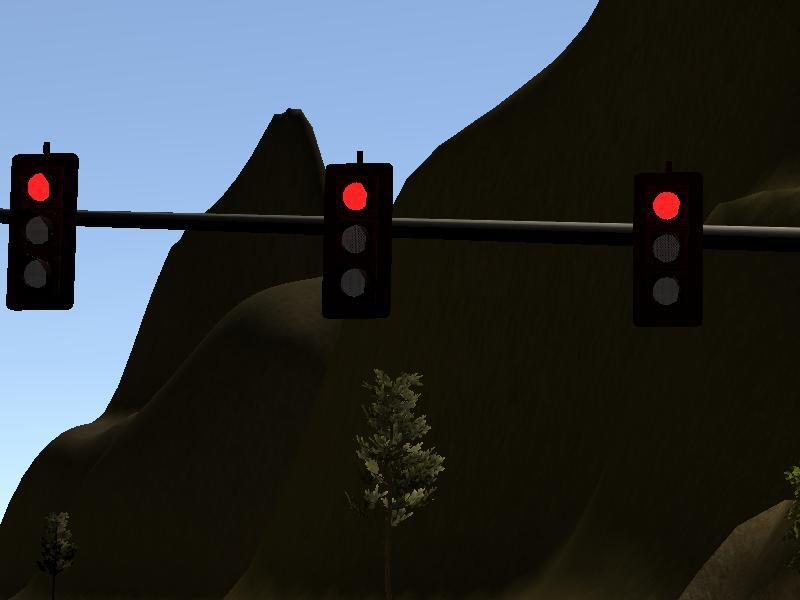Red: (327, 164, 390, 320), (637, 181, 701, 325), (13, 156, 71, 310)
